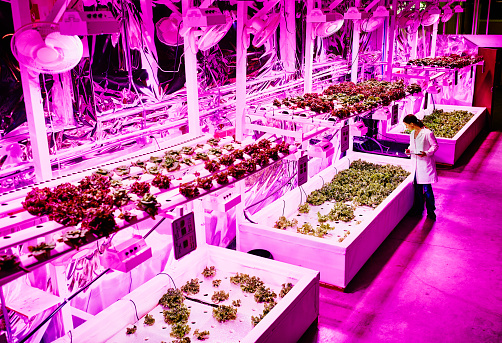em pe: (404, 115, 443, 229)
